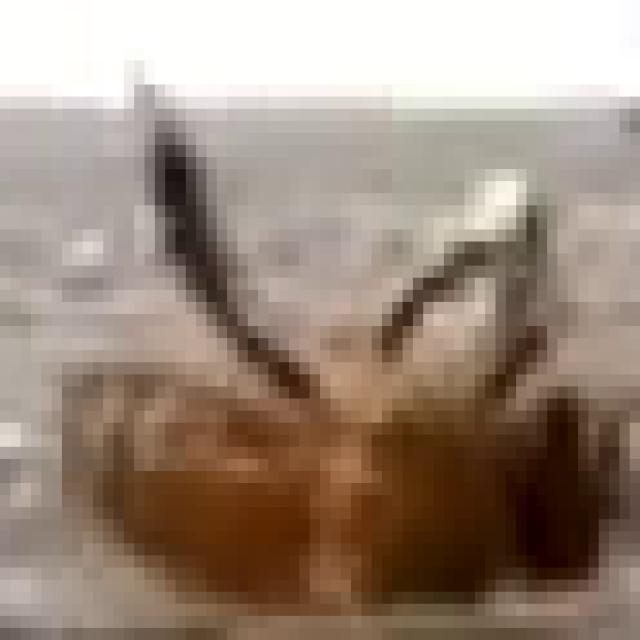honeybee: (124, 156, 592, 611)
